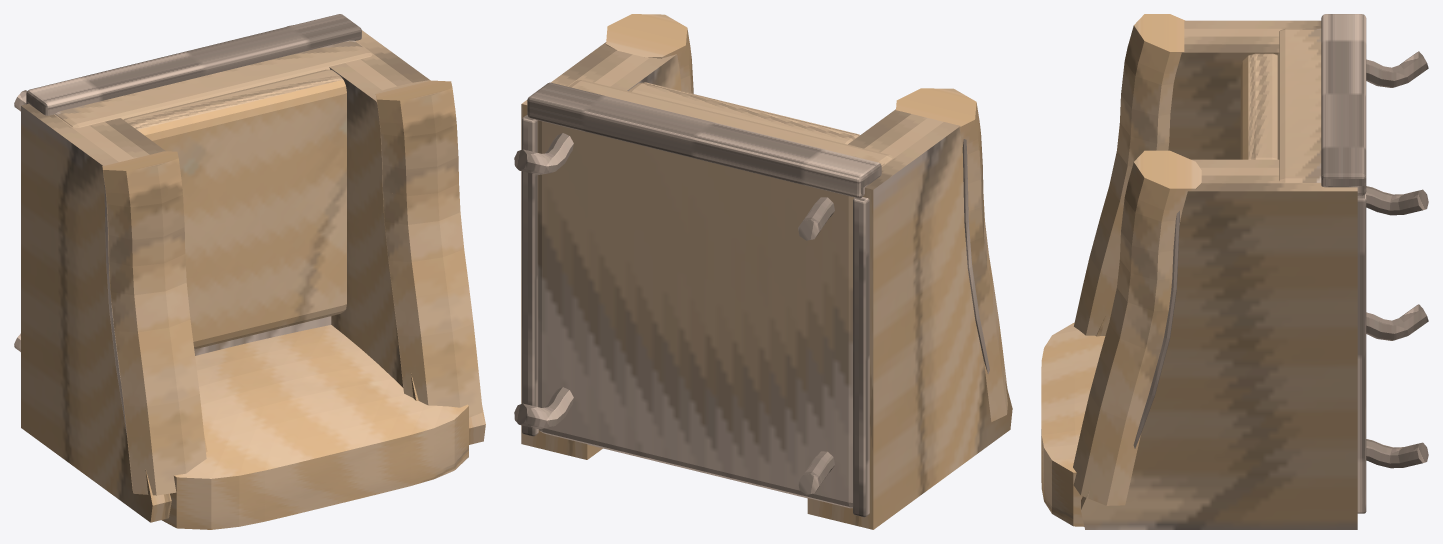
File: pz_chair_seating_indoor_03_victorian_1.obj
3 renders of one model, left to right at view 1: azimuth 30°, elevation 25°; view 2: azimuth 150°, elevation 25°; view 3: azimuth 270°, elevation 25°, orthographic. The views are drawn at different scales.
Visible parts, largest first — view 1: Victorian_1_|_rounded_seat_cushion_0, Victorian_1_|_closed_curved_padded_back, Victorian_1_|_closed_upholstered_side_-1, Victorian_1_|_EDITABLE_rolled_upholstered_arm_-1, Victorian_1_|_EDITABLE_rolled_upholstered_arm_1, Victorian_1_|_closed_upholstered_side_1, Victorian_1_|_native_front_wooden_apron, Victorian_1_|_closed_upholstered_base, Victorian_1_|_EDITABLE_outside_wood_trim_-1; view 2: Victorian_1_|_closed_upholstered_base, Victorian_1_|_closed_upholstered_side_-1, Victorian_1_|_native_front_wooden_apron, Victorian_1_|_EDITABLE_rolled_upholstered_arm_-1, Victorian_1_|_wood_side_plinth_-0.443, Victorian_1_|_closed_upholstered_side_1, Victorian_1_|_wood_side_plinth_0.443, Victorian_1_|_EDITABLE_rolled_upholstered_arm_1, Victorian_1_|_rounded_seat_cushion_0, Victorian_1_|_EDITABLE_curved_wood_leg_(0.35,_-0.3), Victorian_1_|_EDITABLE_curved_wood_leg_(0.35,_0.35), Victorian_1_|_EDITABLE_outside_wood_trim_-1 (+2 smaller); view 3: Victorian_1_|_closed_upholstered_side_1, Victorian_1_|_EDITABLE_rolled_upholstered_arm_1, Victorian_1_|_EDITABLE_rolled_upholstered_arm_-1, Victorian_1_|_closed_upholstered_side_-1, Victorian_1_|_closed_curved_padded_back, Victorian_1_|_native_front_wooden_apron, Victorian_1_|_closed_upholstered_base, Victorian_1_|_rounded_seat_cushion_0, Victorian_1_|_wood_side_plinth_0.443, Victorian_1_|_EDITABLE_outside_wood_trim_1, Victorian_1_|_EDITABLE_curved_wood_leg_(-0.35,_-0.3), Victorian_1_|_EDITABLE_curved_wood_leg_(-0.35,_0.35) (+2 smaller).
Boxes of the visible parts, <box> form: Victorian_1_|_rounded_seat_cushion_0: <box>123,69,346,349</box>; Victorian_1_|_closed_curved_padded_back: <box>161,325,468,529</box>; Victorian_1_|_closed_upholstered_side_-1: <box>21,103,207,522</box>; Victorian_1_|_EDITABLE_rolled_upholstered_arm_-1: <box>102,151,206,495</box>; Victorian_1_|_EDITABLE_rolled_upholstered_arm_1: <box>375,80,482,417</box>; Victorian_1_|_closed_upholstered_side_1: <box>329,30,485,444</box>; Victorian_1_|_native_front_wooden_apron: <box>26,14,361,115</box>; Victorian_1_|_closed_upholstered_base: <box>55,40,372,355</box>; Victorian_1_|_EDITABLE_outside_wood_trim_-1: <box>104,182,126,434</box>; Victorian_1_|_closed_upholstered_base: <box>537,80,892,508</box>; Victorian_1_|_closed_upholstered_side_-1: <box>807,109,1012,529</box>; Victorian_1_|_native_front_wooden_apron: <box>527,82,881,198</box>; Victorian_1_|_EDITABLE_rolled_upholstered_arm_-1: <box>896,88,1007,421</box>; Victorian_1_|_wood_side_plinth_-0.443: <box>853,197,869,517</box>; Victorian_1_|_closed_upholstered_side_1: <box>521,42,681,459</box>; Victorian_1_|_wood_side_plinth_0.443: <box>522,115,538,436</box>; Victorian_1_|_EDITABLE_rolled_upholstered_arm_1: <box>606,14,693,93</box>; Victorian_1_|_rounded_seat_cushion_0: <box>629,82,859,144</box>; Victorian_1_|_EDITABLE_curved_wood_leg_(0.35,_-0.3): <box>514,387,573,429</box>; Victorian_1_|_EDITABLE_curved_wood_leg_(0.35,_0.35): <box>514,133,573,174</box>; Victorian_1_|_EDITABLE_outside_wood_trim_-1: <box>962,139,989,374</box>; Victorian_1_|_closed_upholstered_side_1: <box>1081,159,1357,529</box>; Victorian_1_|_EDITABLE_rolled_upholstered_arm_1: <box>1073,150,1201,505</box>; Victorian_1_|_EDITABLE_rolled_upholstered_arm_-1: <box>1074,14,1184,335</box>; Victorian_1_|_closed_upholstered_side_-1: <box>1096,20,1321,336</box>; Victorian_1_|_closed_curved_padded_back: <box>1041,322,1105,526</box>; Victorian_1_|_native_front_wooden_apron: <box>1321,14,1366,195</box>; Victorian_1_|_closed_upholstered_base: <box>1277,28,1321,182</box>; Victorian_1_|_rounded_seat_cushion_0: <box>1240,53,1277,159</box>; Victorian_1_|_wood_side_plinth_0.443: <box>1357,194,1366,513</box>; Victorian_1_|_EDITABLE_outside_wood_trim_1: <box>1133,211,1179,448</box>; Victorian_1_|_EDITABLE_curved_wood_leg_(-0.35,_-0.3): <box>1366,304,1428,340</box>; Victorian_1_|_EDITABLE_curved_wood_leg_(-0.35,_0.35): <box>1366,51,1428,87</box>.
Bounding box in the file's own units: 0.9838 × 0.9251 × 0.9027.
1 material, 1 textured.
